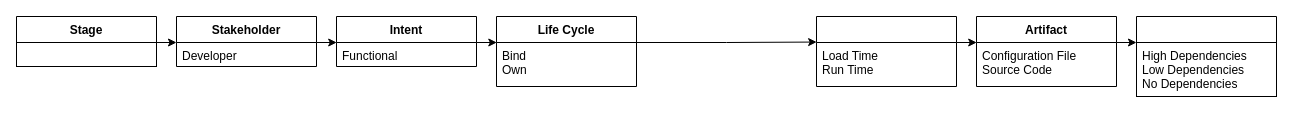
Image size: 1293x113. Some labels were removed from this diagram. The shapes that lost their labels are listed below. From the top down, each one's box as (x1, y1, x2, y2) in pixels, then its label:
(16, 42, 156, 66): Production
(816, 16, 956, 86): Binding Time
(1136, 16, 1276, 96): Complexity
